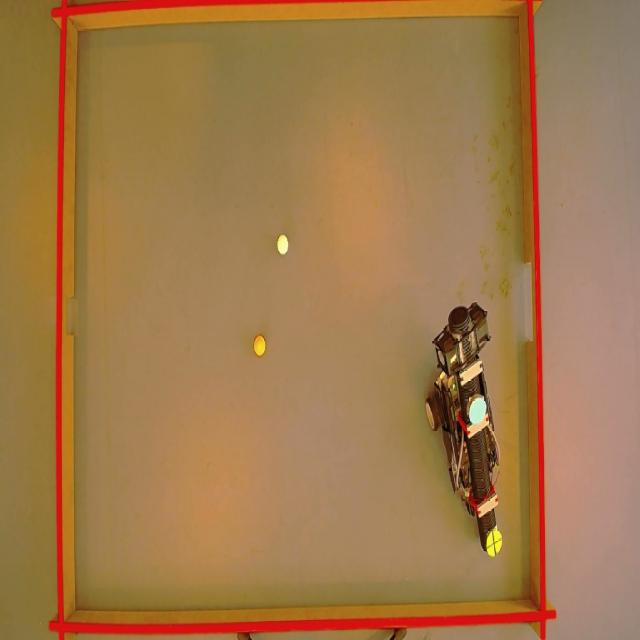orange: (252, 334, 268, 356)
robot: (420, 288, 512, 554)
robot-front: (486, 528, 503, 558)
robot-rear: (468, 399, 487, 426)
white: (275, 233, 289, 254)
